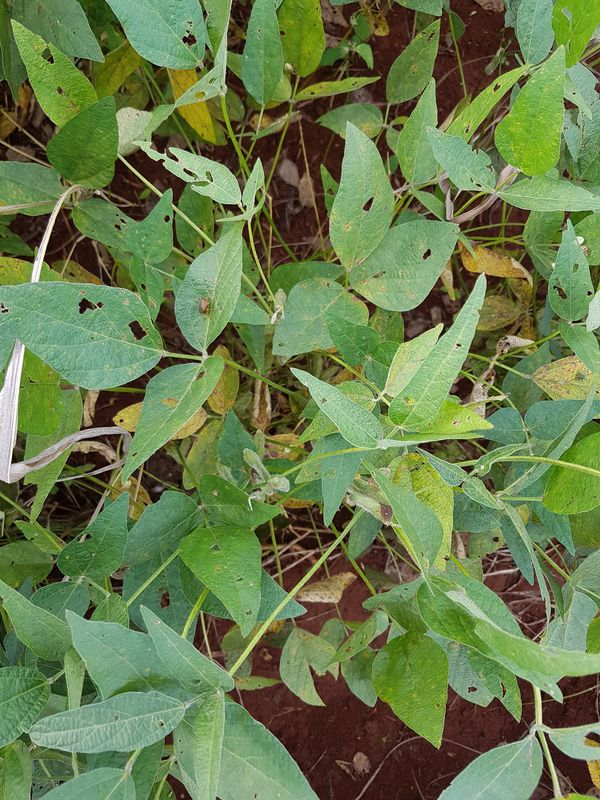Euschistus_heros_adulto: (374, 497, 397, 526), (193, 294, 215, 317)
